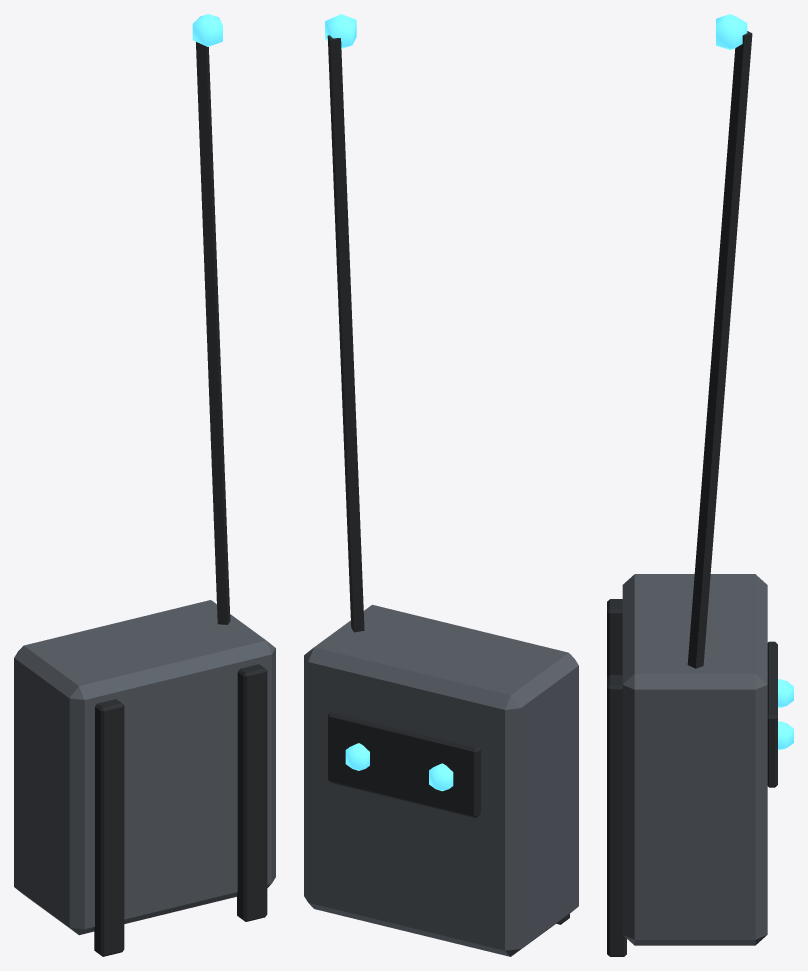
The model's file is npc_radio_pack.glb.
3 views of the same model, side by side, from view 1: azimuth 30°, elevation 25°; view 2: azimuth 150°, elevation 25°; view 3: azimuth 270°, elevation 25° (orthographic). The views are drawn at different scales.
Visible parts, largest first — view 1: part.npc_radio_pack; view 2: part.npc_radio_pack; view 3: part.npc_radio_pack.
Boxes of the visible parts, <box> form: part.npc_radio_pack: <box>14,14,275,956</box>; part.npc_radio_pack: <box>304,14,578,956</box>; part.npc_radio_pack: <box>607,14,793,956</box>.
Size of the model in its own units: 0.26 by 1.04 by 0.1869.
